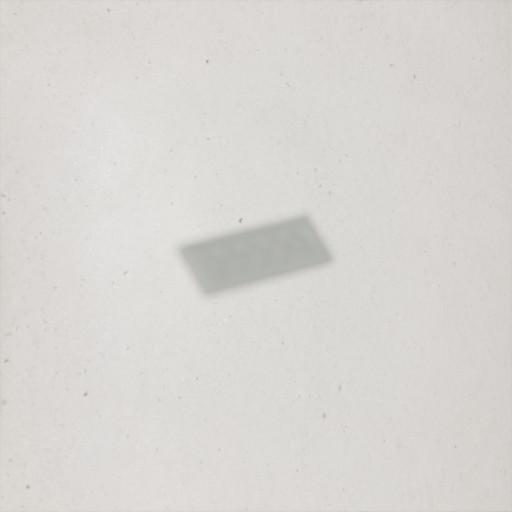lego: (174, 212, 337, 300)
